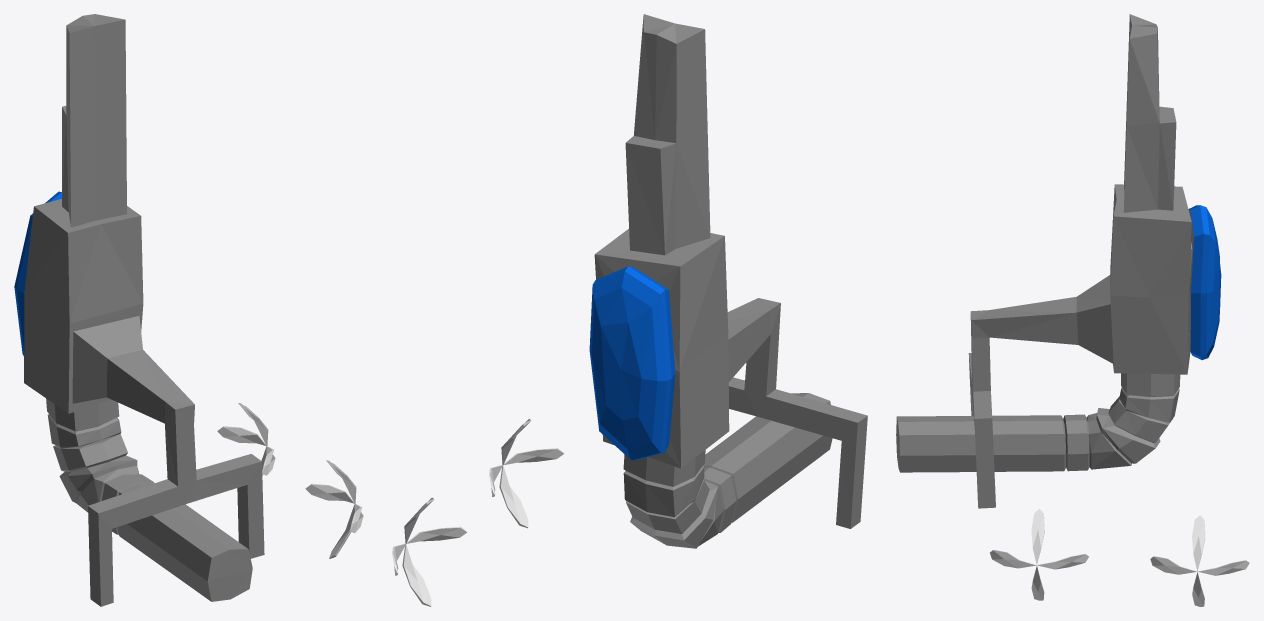
Rendered from Overloader.fbx.
3 views of the same model, side by side, from view 1: azimuth 30°, elevation 25°; view 2: azimuth 150°, elevation 25°; view 3: azimuth 270°, elevation 25° (orthographic). The views are drawn at different scales.
Visible parts, largest first — view 1: Cube, Plane.002, Plane.001; view 2: Cube, Plane.001, Plane.002; view 3: Cube, Plane.002, Plane.001.
Part boxes in pixels (x1,y1,x2,y2): Cube: (14,14,264,606); Plane.002: (305,460,363,558); Plane.001: (217,403,275,475); Cube: (589,14,867,548); Plane.001: (392,497,467,606); Plane.002: (489,419,564,528); Cube: (896,14,1221,508); Plane.002: (990,509,1088,600); Plane.001: (1150,515,1249,606).
Bounding box in the file's own units: 798 × 1409 × 905.
